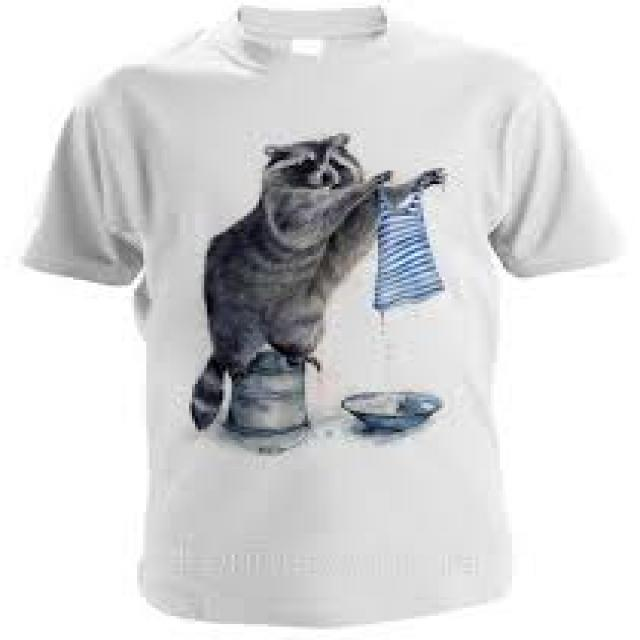Shirt: (53, 1, 600, 634)
